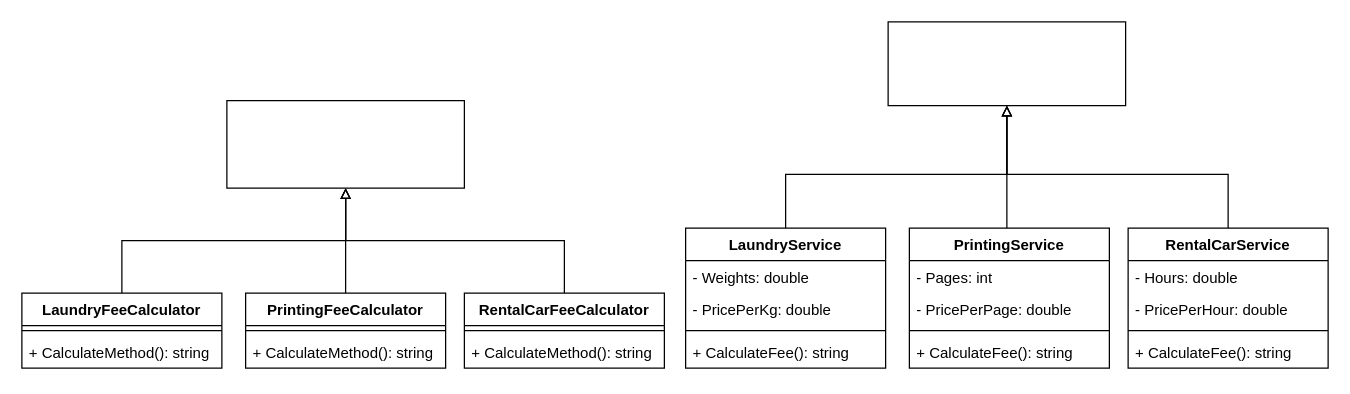
Image size: 1350x394. Some labels were removed from this diagram. The centre of each missing label's shape, as x and y in pixels:
"<<Abstract>> FeeCalculatorService + CalculateMethod(): string" belongs at (345,143).
"<<Interface>> IService + CalculateFee(): string" belongs at (1006,63).
